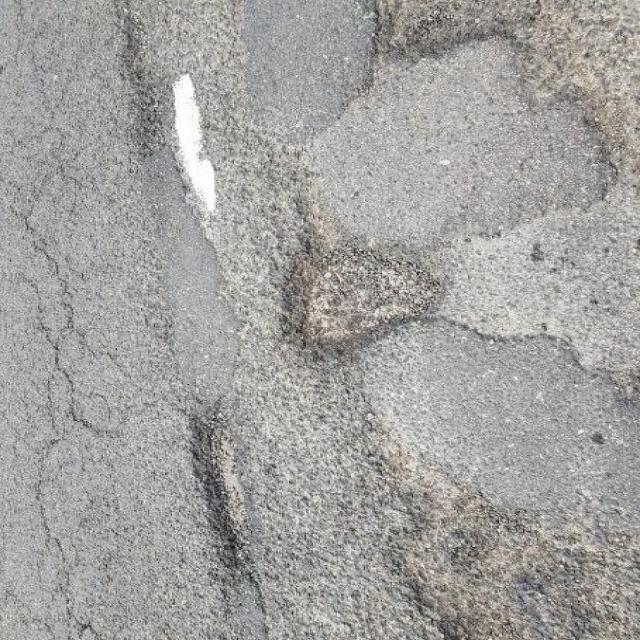Pothole: (276, 229, 450, 358), (172, 404, 292, 572), (363, 1, 547, 70)
